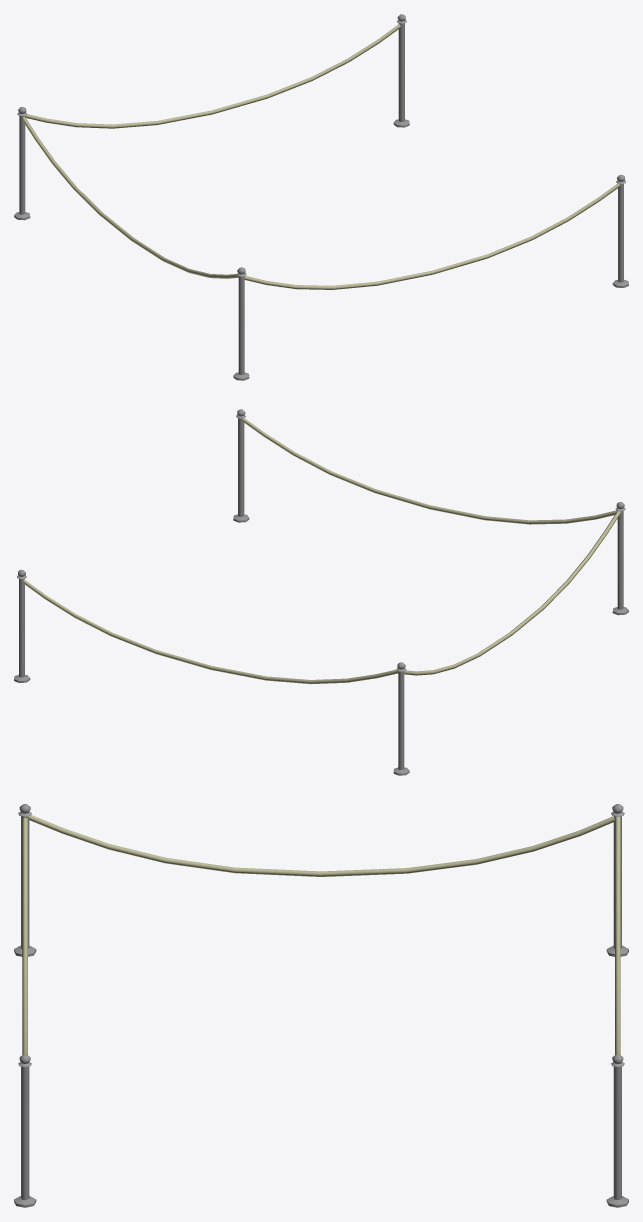
The model's file is Cord.FBX.
The picture shows the model from 3 angles, top to bottom: view 1: azimuth 30°, elevation 25°; view 2: azimuth 150°, elevation 25°; view 3: azimuth 270°, elevation 25°; orthographic projection. The views are drawn at different scales.
Parts seen in each view (by area): view 1: Cord; view 2: Cord; view 3: Cord.
Boxes of the visible parts, <box> form: Cord: <box>14,14,628,380</box>; Cord: <box>14,409,628,775</box>; Cord: <box>14,804,628,1207</box>.
Size of the model in its own units: 414 by 110 by 415.
